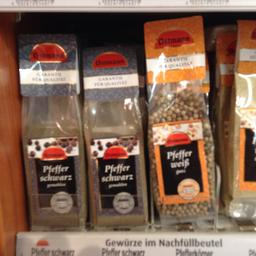spices: (143, 14, 215, 225), (16, 30, 86, 230), (79, 39, 146, 226)
